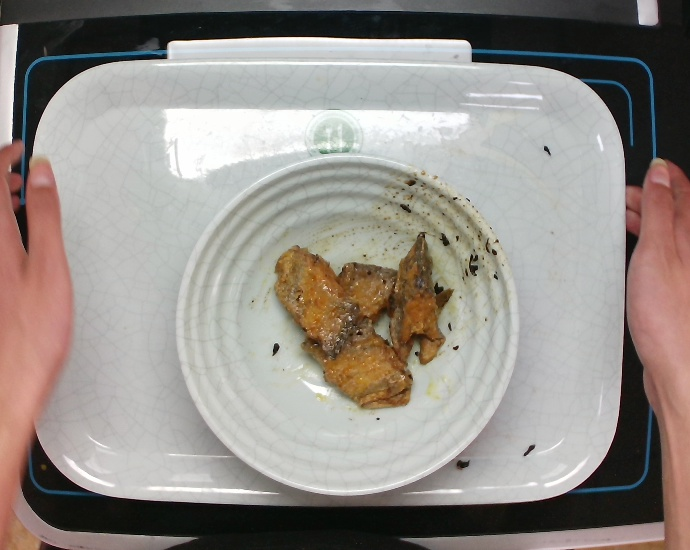JYsf-Da_Tang_Wan: (174, 152, 523, 499)
